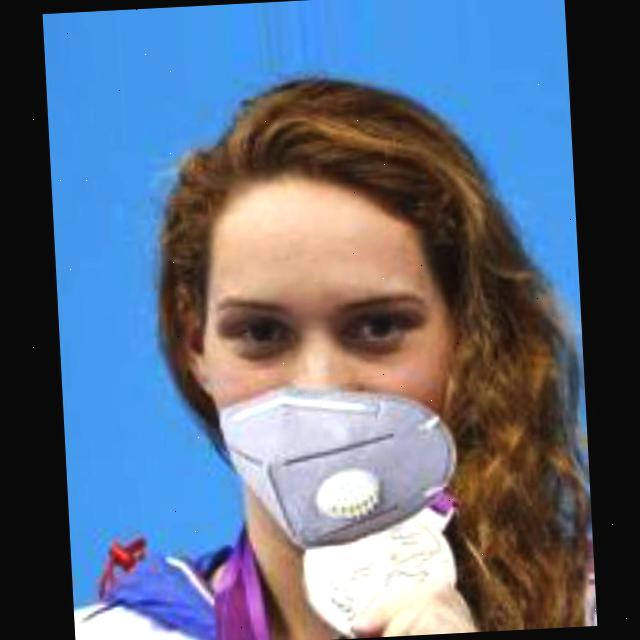suspicion: (168, 114, 507, 558)
